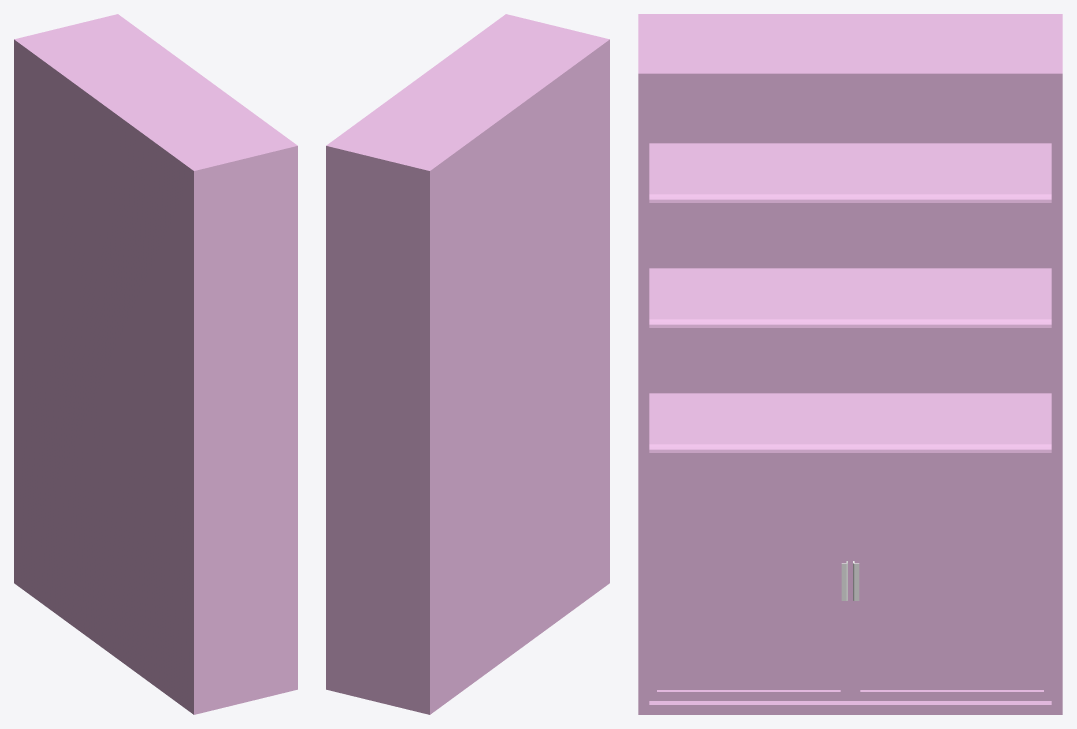
Rendered from Estanteria.fbx.
3 renders of one model, left to right at view 1: azimuth 30°, elevation 25°; view 2: azimuth 150°, elevation 25°; view 3: azimuth 270°, elevation 25°, orthographic. The views are drawn at different scales.
Visible parts, largest first — view 1: Estanteria; view 2: Estanteria; view 3: Estanteria.
Part boxes in pixels (x1,y1,x2,y2): Estanteria: (14, 14, 297, 714); Estanteria: (326, 14, 609, 714); Estanteria: (638, 14, 1062, 714).
Size of the model in its own units: 0.3935 by 1.97 by 1.18.
